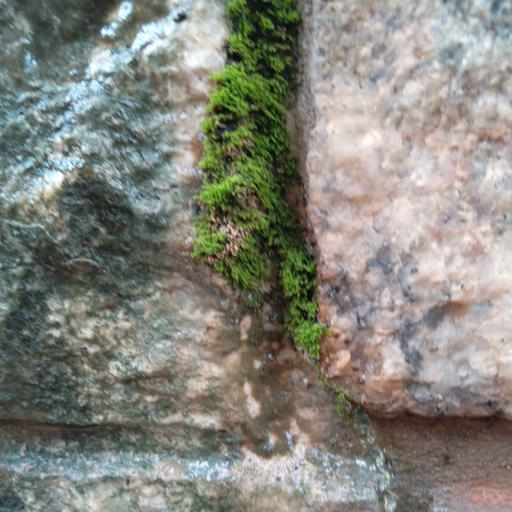algae: (175, 3, 378, 407)
